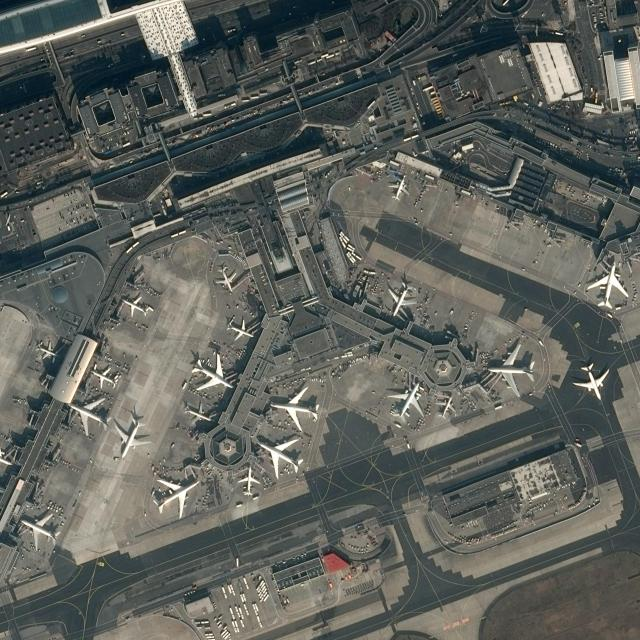aircraft: (486, 342, 540, 397), (250, 437, 306, 482), (586, 258, 630, 310), (150, 474, 198, 518), (271, 387, 321, 429), (19, 511, 63, 552), (385, 383, 425, 425), (113, 414, 149, 460), (189, 354, 232, 392), (68, 398, 110, 434), (572, 362, 610, 399), (387, 280, 415, 318), (122, 295, 150, 319), (92, 362, 119, 386), (184, 402, 210, 426), (387, 176, 409, 202), (225, 317, 252, 338), (238, 468, 258, 494), (435, 394, 455, 420), (215, 266, 235, 290), (36, 342, 58, 360)
